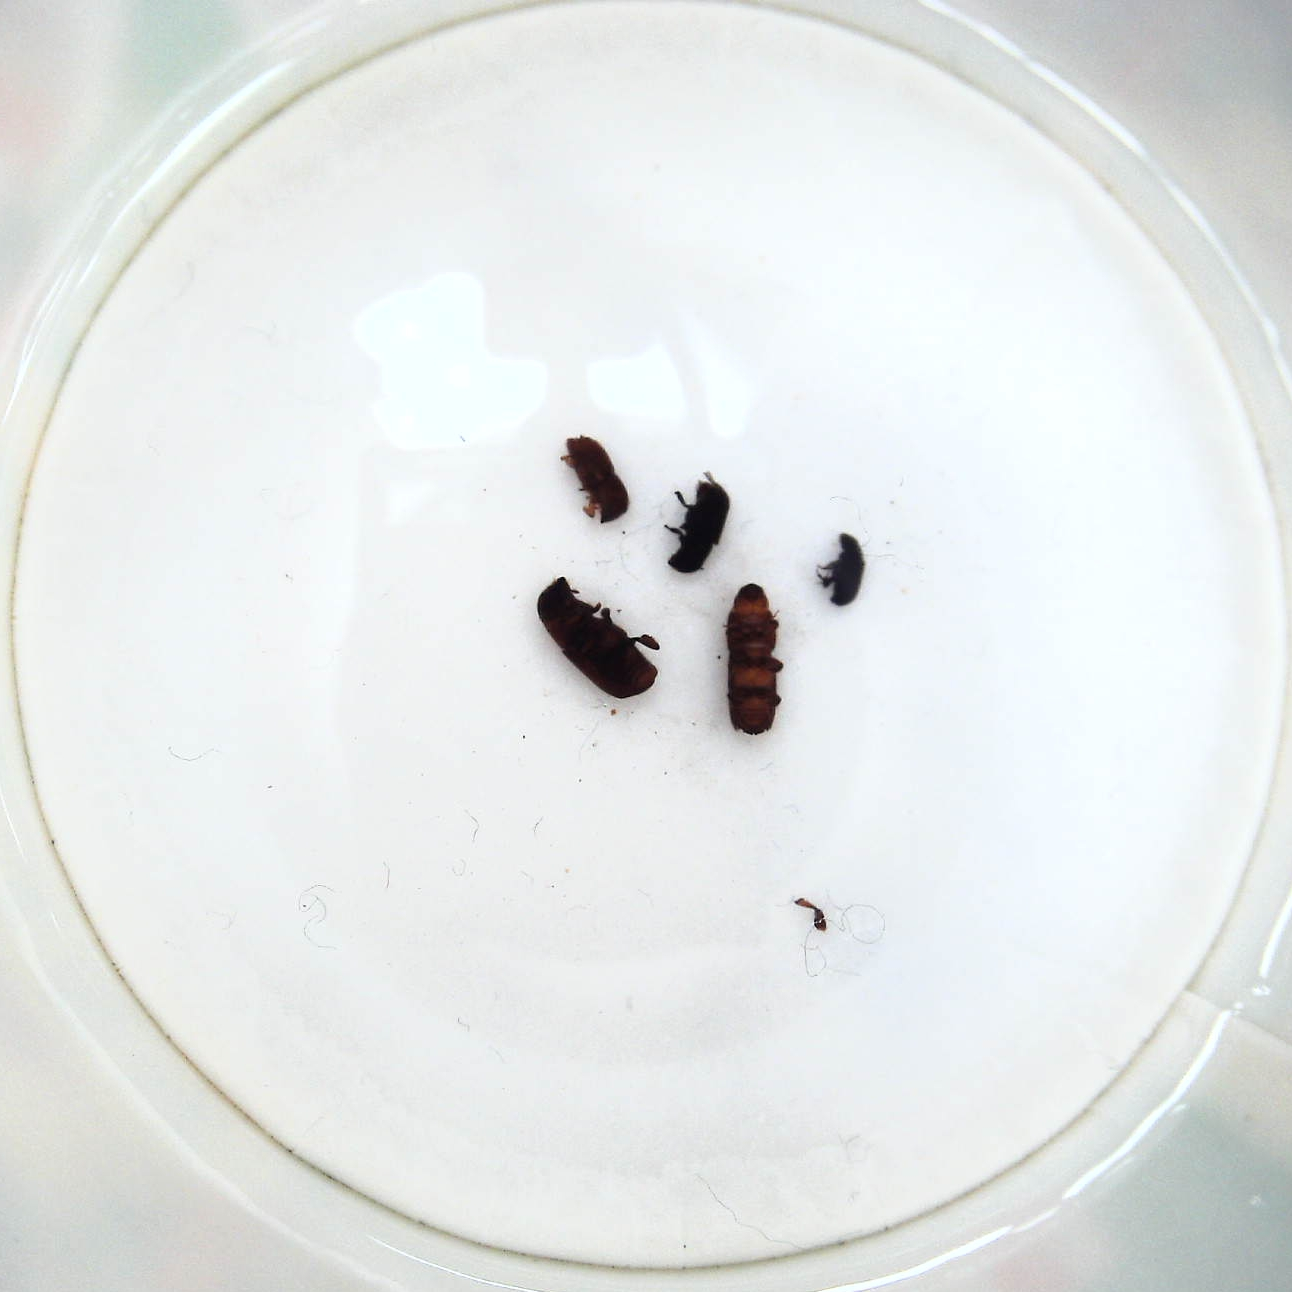Boerner: (721, 577, 792, 743)
Leconte: (529, 571, 665, 704)
armandi: (660, 461, 736, 579)
coleoptera: (812, 527, 876, 611)
linnaeus: (560, 426, 637, 531)
